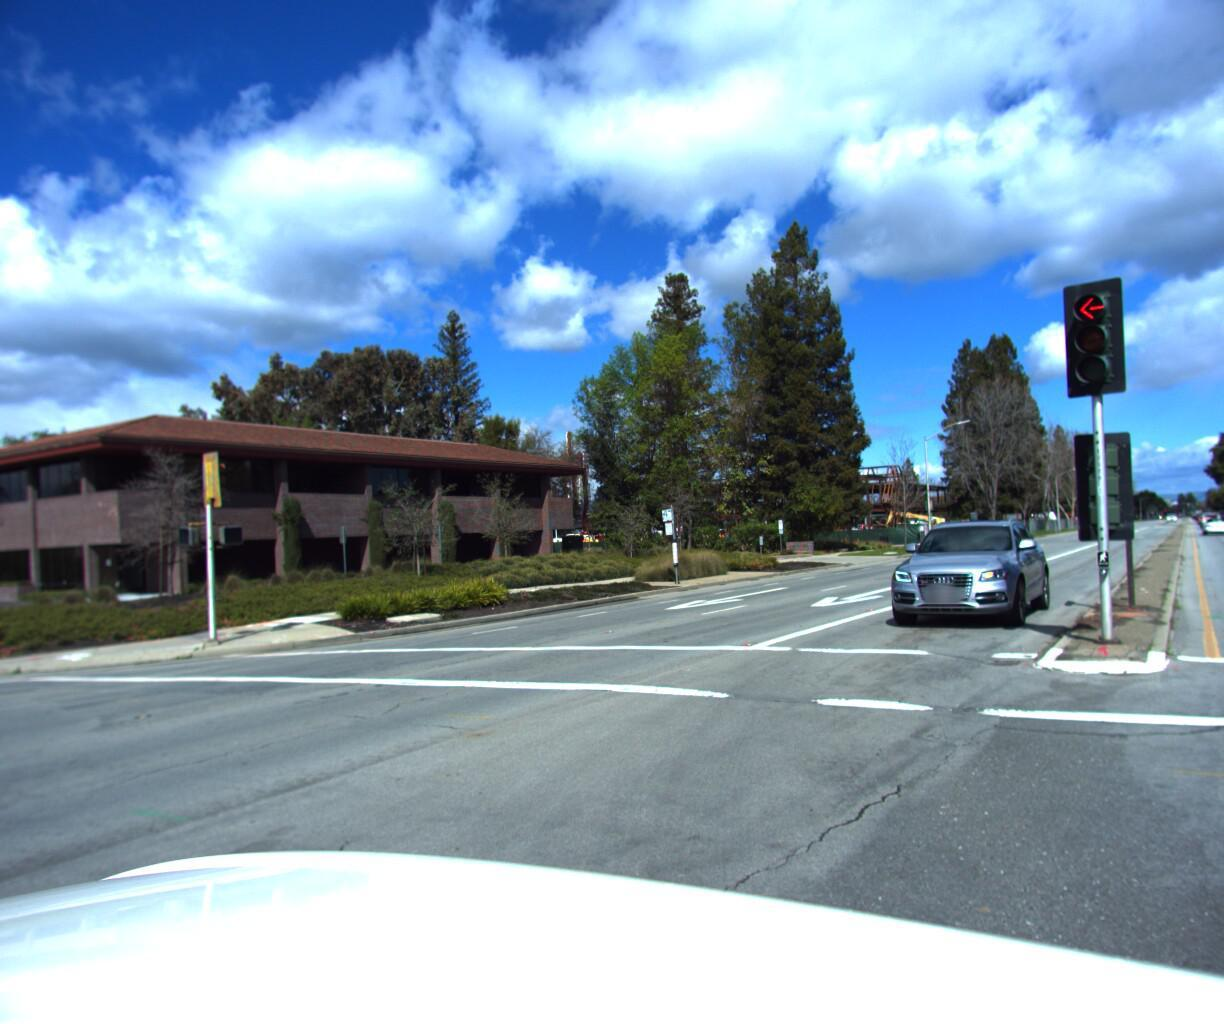car: (866, 517, 1057, 642), (1194, 516, 1224, 537)
other_vehicle: (870, 511, 955, 543)
